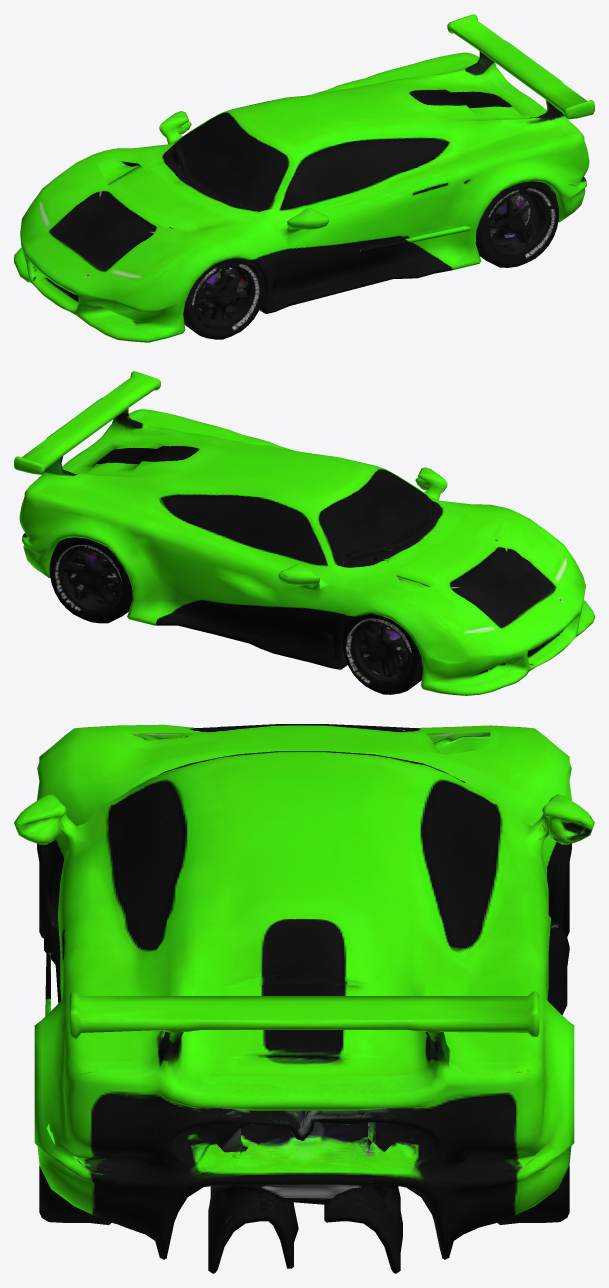
3 renders of one model, top to bottom at view 1: azimuth 30°, elevation 25°; view 2: azimuth 150°, elevation 25°; view 3: azimuth 270°, elevation 25°, orthographic. The views are drawn at different scales.
Size of the model in its own units: 1.91 by 0.5245 by 0.9824.
Materials: 1 (1 with a texture image).
